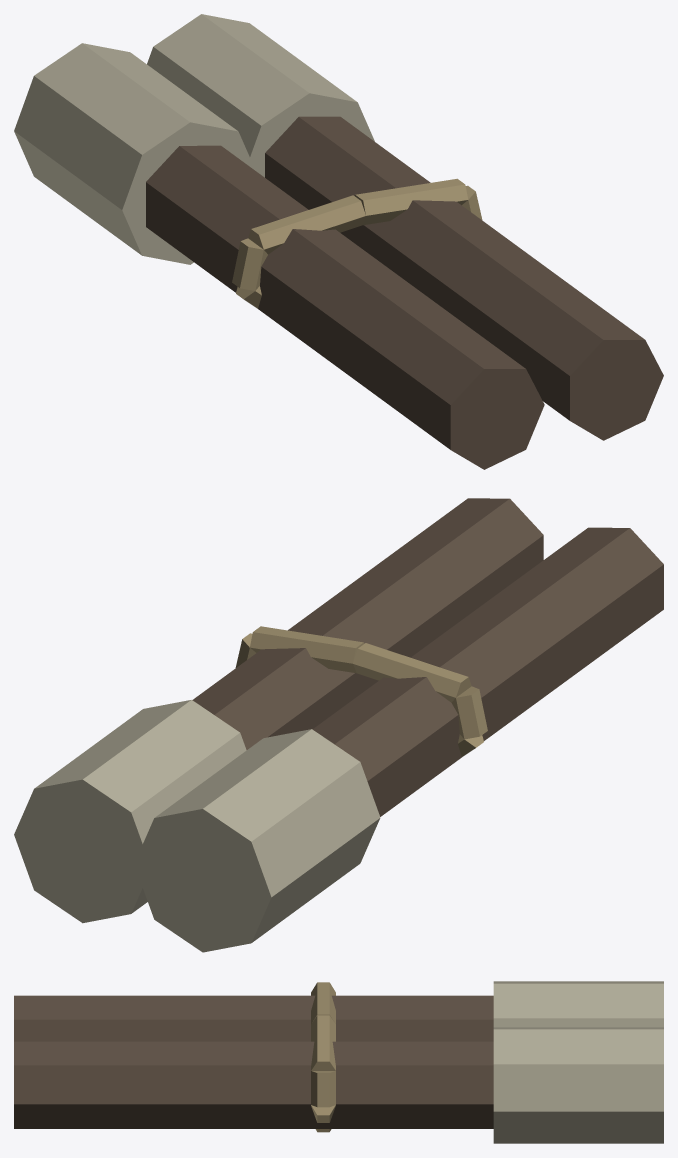
Rendered from unlit-torches.glb.
3 renders of one model, top to bottom at view 1: azimuth 30°, elevation 25°; view 2: azimuth 150°, elevation 25°; view 3: azimuth 270°, elevation 25°, orthographic. The views are drawn at different scales.
Parts seen in each view (by area): view 1: unlit-torches__body; view 2: unlit-torches__body; view 3: unlit-torches__body.
Part boxes in pixels (box(x1,y1,x2,y2)): unlit-torches__body: box(14, 14, 663, 469); unlit-torches__body: box(14, 498, 663, 952); unlit-torches__body: box(14, 981, 663, 1143).
Size of the model in its own units: 0.15 by 0.08 by 0.42.
